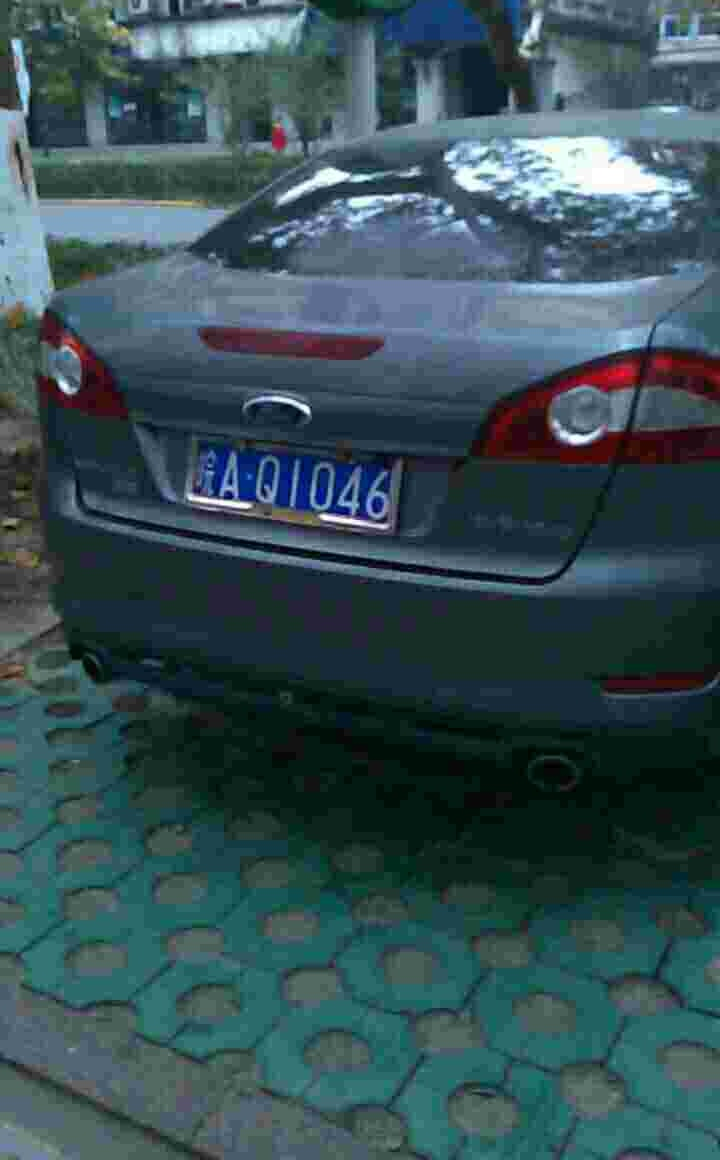plate: (184, 430, 404, 536)
